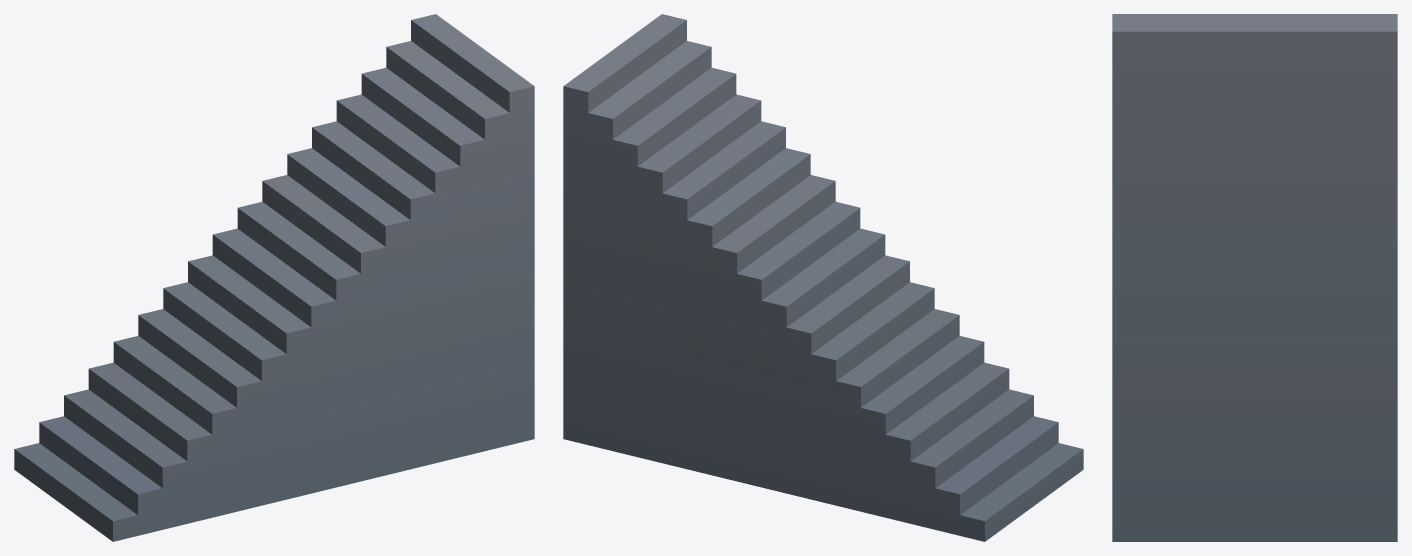
Rendered from Stairs_C_1_4.obj.
3 renders of one model, left to right at view 1: azimuth 30°, elevation 25°; view 2: azimuth 150°, elevation 25°; view 3: azimuth 270°, elevation 25°, orthographic. The views are drawn at different scales.
Parts seen in each view (by area): view 1: Stairs_C_1_4; view 2: Stairs_C_1_4; view 3: Stairs_C_1_4.
Boxes of the visible parts, x1,y1,x2,y2 form: Stairs_C_1_4: (14,14,534,541); Stairs_C_1_4: (563,14,1083,541); Stairs_C_1_4: (1112,14,1397,541).
Size of the model in its own units: 3.4 by 2.72 by 1.38.
